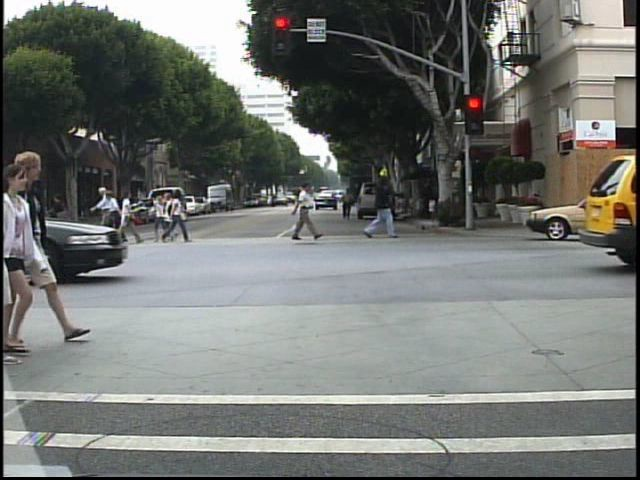person: (15, 145, 63, 349), (3, 164, 38, 363), (364, 169, 398, 242), (292, 178, 323, 242), (112, 188, 143, 244), (166, 188, 189, 246), (95, 182, 112, 246), (340, 184, 356, 220), (114, 187, 115, 246)
